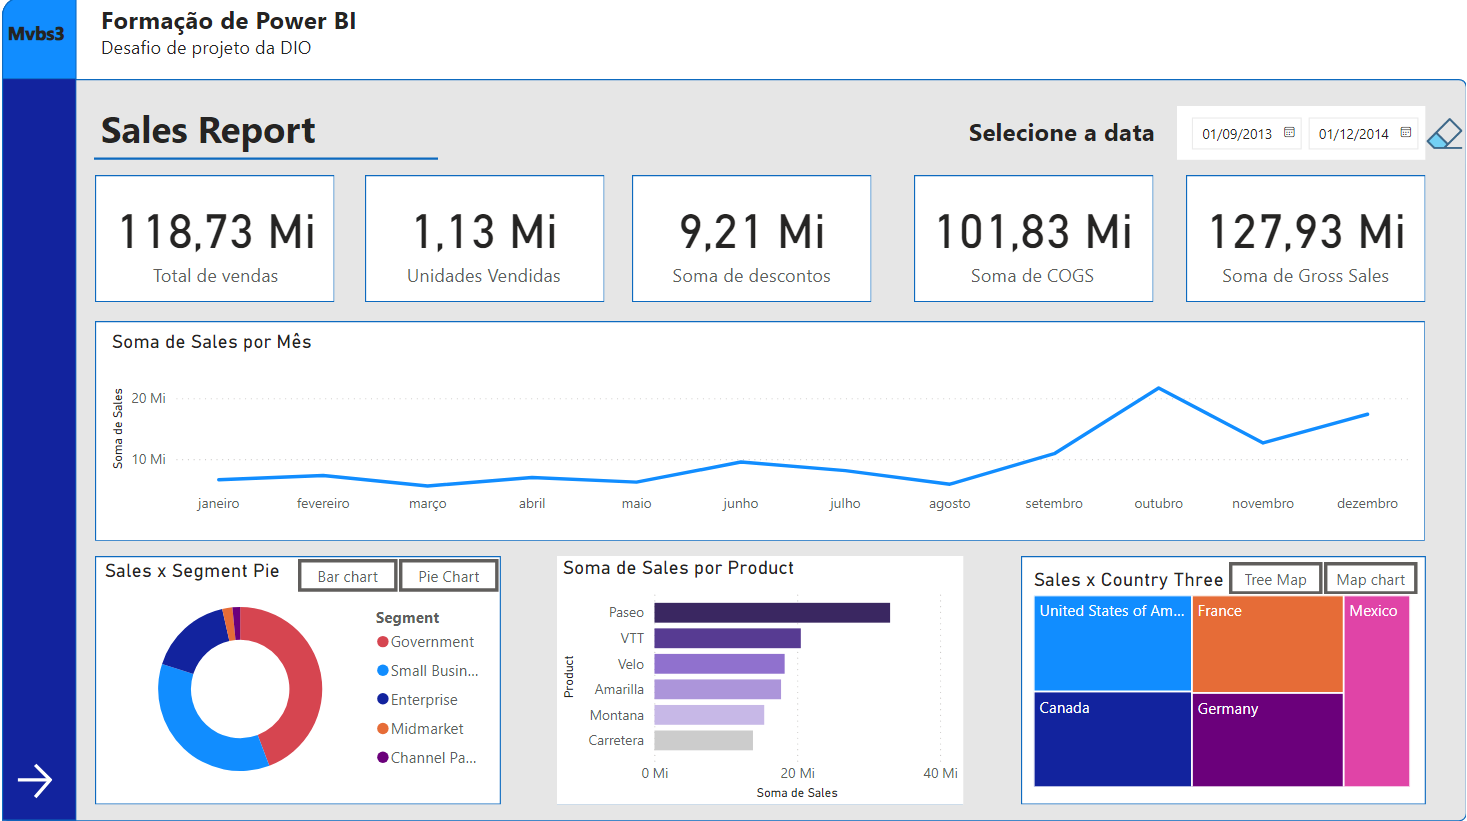

What the dashboard file says about the page in this screenshot:
{"tool":"powerbi","page":{"name":"Página 1","canvas":[1280,720],"ordinal":0},"visuals":[{"type":"group","id":"g1","title":"Grupo 1","box":[0,0,1280,720.5],"z":0},{"type":"shape","box":[0,71.9,1280,648.6],"z":0,"group":"g1"},{"type":"slicer","fields":{"Values":["financials.Date"]},"box":[1026.8,94.9,217.2,47],"z":0,"group":"g5"},{"type":"shape","box":[81.1,155.4,209.5,111],"z":0,"group":"g2"},{"type":"donutChart","title":"Sales x Segment Pie","fields":{"Category":["financials.Segment"],"Y":["Sum(financials. Sales)"]},"box":[84.5,491.2,348.7,208.3],"z":0,"group":"g6"},{"type":"actionButton","title":"Botão Bar","box":[259,491.7,87,28.5],"z":0,"group":"g3"},{"type":"actionButton","title":"Botão TreeMap","box":[1071.9,494,81.7,28.5],"z":0,"group":"g4"},{"type":"shape","box":[0,0,65.2,719.8],"z":1000,"group":"g1"},{"type":"textbox","box":[81.1,0,552.2,71.4],"z":1000},{"type":"textbox","box":[839.7,97.6,187.1,55],"z":1000,"group":"g5"},{"type":"shape","box":[316.6,155.4,209.5,111],"z":1000,"group":"g2"},{"type":"actionButton","title":"Botão Pie","box":[347.7,491.7,87,28.5],"z":1000,"group":"g3"},{"type":"actionButton","title":"Botao Map","box":[1155.2,494,81.7,28.5],"z":1000,"group":"g4"},{"type":"treemap","title":"Sales x Country Three","fields":{"Group":["financials.Country"],"Values":["Sum(financials. Sales)"]},"box":[896,498.9,338.9,196.5],"z":1000,"group":"g7"},{"type":"shape","box":[0,0,65.2,72],"z":2000,"group":"g1"},{"type":"image","title":"Borracha","box":[1239.6,98.4,40.8,40.8],"z":2000,"group":"g5"},{"type":"group","id":"g2","title":"Cartoes","box":[81.1,155.4,1163.2,111],"z":2000},{"type":"shape","box":[550.2,155.4,209.5,111],"z":2000,"group":"g2"},{"type":"group","id":"g3","title":"Botoes Sales segment","box":[259,491.7,175.7,28.5],"z":2000,"group":"g6"},{"type":"group","id":"g4","title":"Botao Country","box":[1071.9,494,165,28.5],"z":2000,"group":"g7"},{"type":"shape","box":[80.7,127.7,300.6,27.5],"z":3000},{"type":"shape","box":[796.4,155.4,209.5,111],"z":3000,"group":"g2"},{"type":"textbox","box":[81.6,87.2,300.7,76],"z":4000},{"type":"shape","box":[1034.8,155.4,209.5,111],"z":4000,"group":"g2"},{"type":"card","fields":{"Values":["Sum(financials. Sales)"]},"box":[85.5,165.2,202.2,91.3],"z":5000,"group":"g2"},{"type":"shape","box":[81.6,282.9,1162.5,192.4],"z":5000},{"type":"card","fields":{"Values":["Sum(financials.Units Sold)"]},"box":[320.1,164.9,202.2,91.3],"z":6000},{"type":"shape","box":[81.6,488.6,354.7,217.2],"z":7000},{"type":"shape","box":[485,488.6,354.7,217.2],"z":8000},{"type":"shape","box":[890.2,488.6,353.8,217.2],"z":9000},{"type":"lineChart","fields":{"Y":["Sum(financials. Sales)"],"Category":["financials.Date.Variation.Hierarquia de datas.Mês"]},"box":[90.4,290.8,1143.8,169.4],"z":10000},{"type":"card","fields":{"Values":["Sum(financials.Discounts)"]},"box":[554.2,164.9,202.2,91.3],"z":11000},{"type":"card","fields":{"Values":["Sum(financials.COGS)"]},"box":[799.8,164.9,202.2,91.3],"z":12000},{"type":"card","fields":{"Values":["Sum(financials.Gross Sales)"]},"box":[1038.3,164.9,202.2,91.3],"z":13000},{"type":"barChart","fields":{"Category":["financials.Product"],"Y":["Sum(financials. Sales)"]},"box":[485,488.6,354.7,217.2],"z":14000},{"type":"group","id":"g5","title":"Filtro por data","box":[839.7,94.9,440.7,57.6],"z":15000},{"type":"actionButton","box":[7.9,665,47.1,40.3],"z":16000},{"type":"group","id":"g6","title":"Sales x Segment","box":[0,16,434.7,683.6],"z":17000},{"type":"group","id":"g7","title":"Sales x Country","box":[895.5,494,341.1,205.3],"z":18000},{"type":"textbox","box":[0,16,74.7,38.4],"z":18001,"group":"g6"}]}

Visuals, with their boxes on the page's 1280x720 design canvas (x1, y1, x2, y2). These are canvas units, not pixel positions in the 1467x821 screenshot, which may show the page scaled, cropped or inside an application window:
"Grupo 1" group: select_region(0, 0, 1280, 720)
shape: select_region(0, 72, 1280, 720)
slicer - financials.Date: select_region(1027, 95, 1244, 142)
shape: select_region(81, 155, 291, 266)
"Sales x Segment Pie" donutChart: select_region(84, 491, 433, 700)
"Botão Bar" actionButton: select_region(259, 492, 346, 520)
"Botão TreeMap" actionButton: select_region(1072, 494, 1154, 522)
shape: select_region(0, 0, 65, 720)
textbox: select_region(81, 0, 633, 71)
textbox: select_region(840, 98, 1027, 153)
shape: select_region(317, 155, 526, 266)
"Botão Pie" actionButton: select_region(348, 492, 435, 520)
"Botao Map" actionButton: select_region(1155, 494, 1237, 522)
"Sales x Country Three" treemap: select_region(896, 499, 1235, 695)
shape: select_region(0, 0, 65, 72)
"Borracha" image: select_region(1240, 98, 1280, 139)
"Cartoes" group: select_region(81, 155, 1244, 266)
shape: select_region(550, 155, 760, 266)
"Botoes Sales segment" group: select_region(259, 492, 435, 520)
"Botao Country" group: select_region(1072, 494, 1237, 522)
shape: select_region(81, 128, 381, 155)
shape: select_region(796, 155, 1006, 266)
textbox: select_region(82, 87, 382, 163)
shape: select_region(1035, 155, 1244, 266)
card - Sum(financials. Sales): select_region(86, 165, 288, 256)
shape: select_region(82, 283, 1244, 475)
card - Sum(financials.Units Sold): select_region(320, 165, 522, 256)
shape: select_region(82, 489, 436, 706)
shape: select_region(485, 489, 840, 706)
shape: select_region(890, 489, 1244, 706)
lineChart - Sum(financials. Sales) x financials.Date.Variation.Hierarquia de datas.Mês: select_region(90, 291, 1234, 460)
card - Sum(financials.Discounts): select_region(554, 165, 756, 256)
card - Sum(financials.COGS): select_region(800, 165, 1002, 256)
card - Sum(financials.Gross Sales): select_region(1038, 165, 1240, 256)
barChart - financials.Product x Sum(financials. Sales): select_region(485, 489, 840, 706)
"Filtro por data" group: select_region(840, 95, 1280, 152)
actionButton: select_region(8, 665, 55, 705)
"Sales x Segment" group: select_region(0, 16, 435, 700)
"Sales x Country" group: select_region(896, 494, 1237, 699)
textbox: select_region(0, 16, 75, 54)
